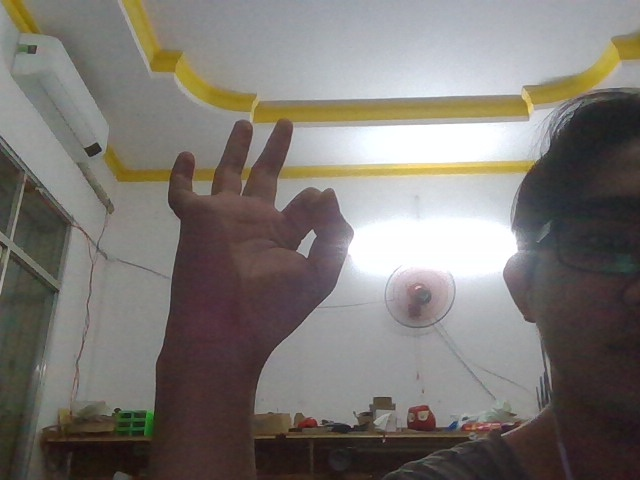okay: (136, 91, 357, 408)
